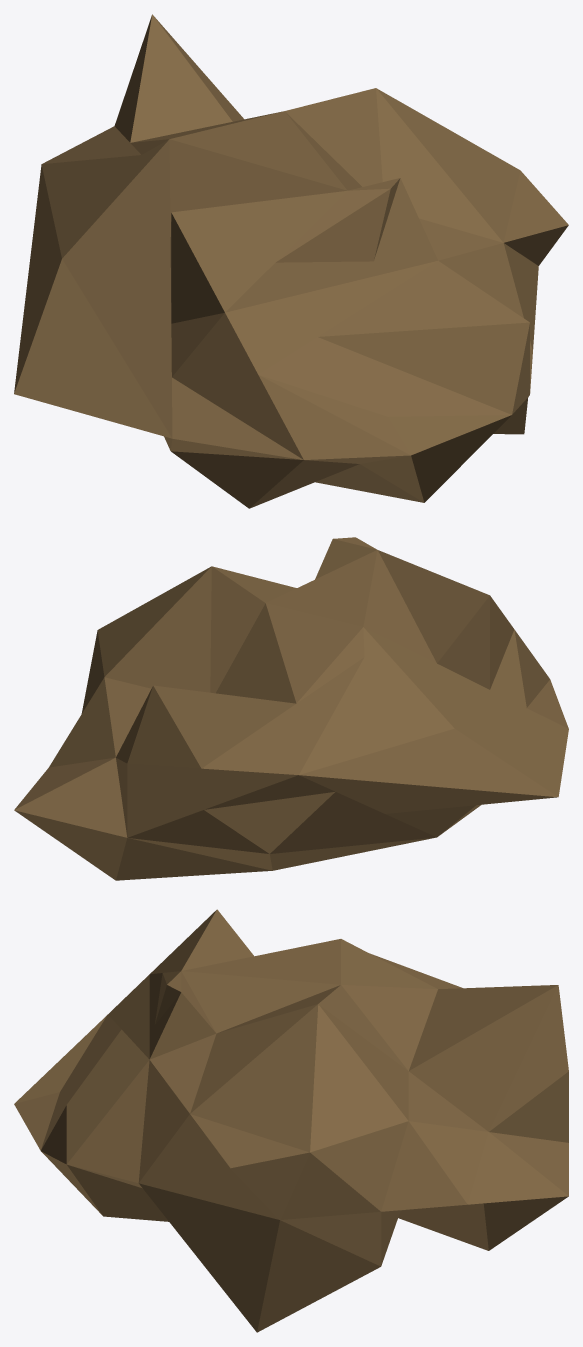
The model's file is Asteroid 2.fbx.
3 views of the same model, one above another, from view 1: azimuth 30°, elevation 25°; view 2: azimuth 150°, elevation 25°; view 3: azimuth 270°, elevation 25° (orthographic). The views are drawn at different scales.
Visible parts, largest first — view 1: Asteroid_2_1; view 2: Asteroid_2_1; view 3: Asteroid_2_1.
Part boxes in pixels (bbox=[...]): Asteroid_2_1: bbox=[14, 14, 568, 508]; Asteroid_2_1: bbox=[14, 537, 568, 880]; Asteroid_2_1: bbox=[14, 909, 568, 1332].
Size of the model in its own units: 1135 by 716 by 1266.
